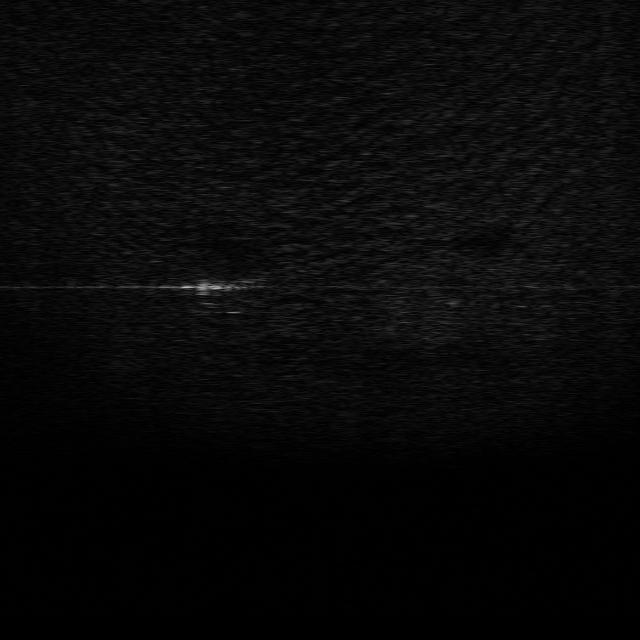plane: (184, 273, 262, 318)
